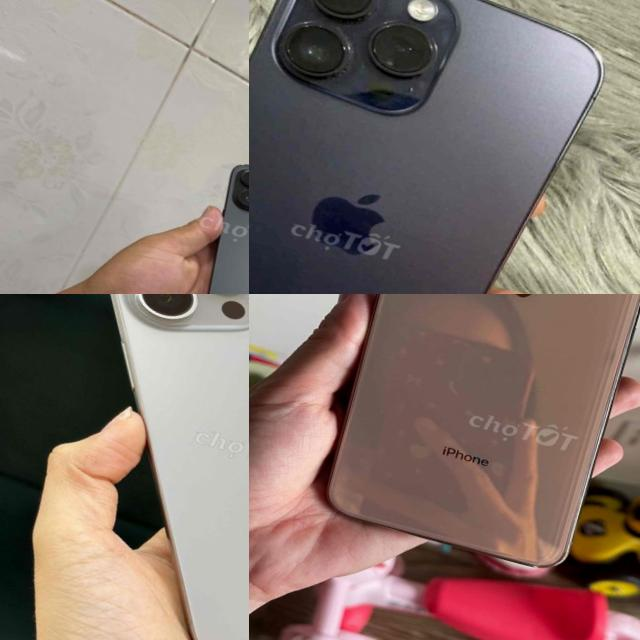gen_14: (249, 0, 626, 294), (185, 155, 249, 294)
gen_15: (0, 294, 249, 640)
gen_x_xs: (292, 294, 640, 591)
